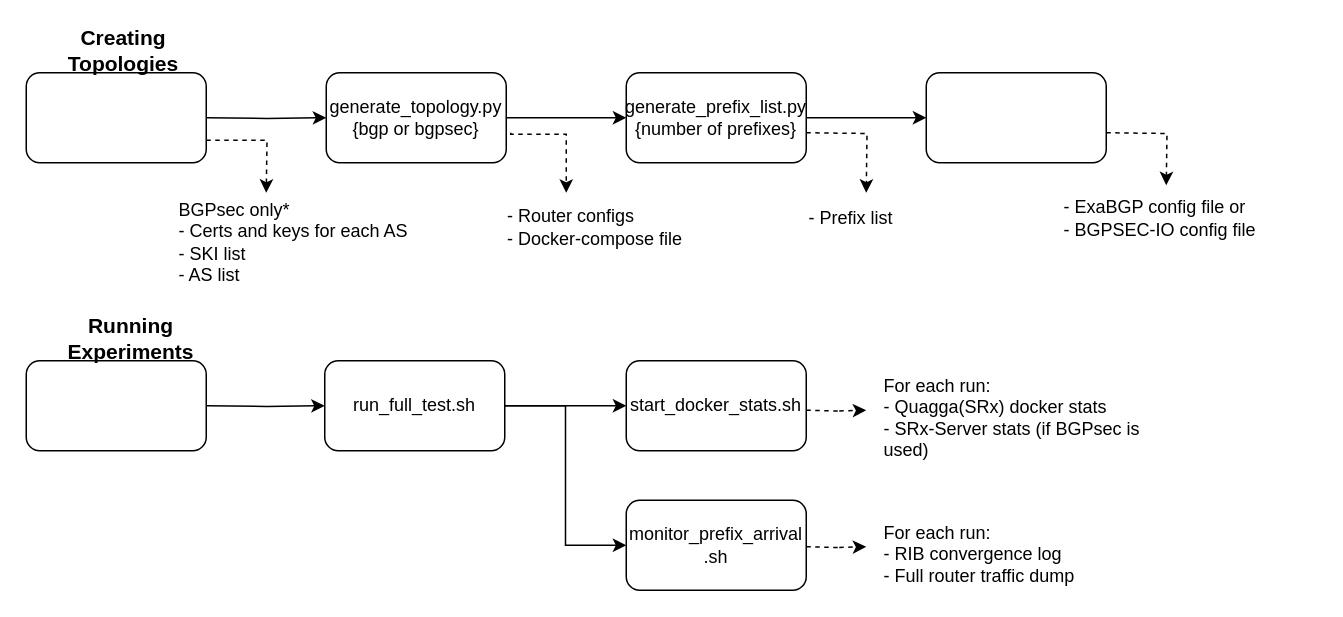
Image size: 1343x617. Some labels were removed from this diagram. The centre of each missing label's shape, as x and y in pixels:
"automate_runs.sh {number of runs}" belongs at (115,405).
"gen_exabgp_conf.py or gen_bgpsecio_conf.py" belongs at (1015,117).
"If BGPsec -> generate_asns.sh" belongs at (115,117).
